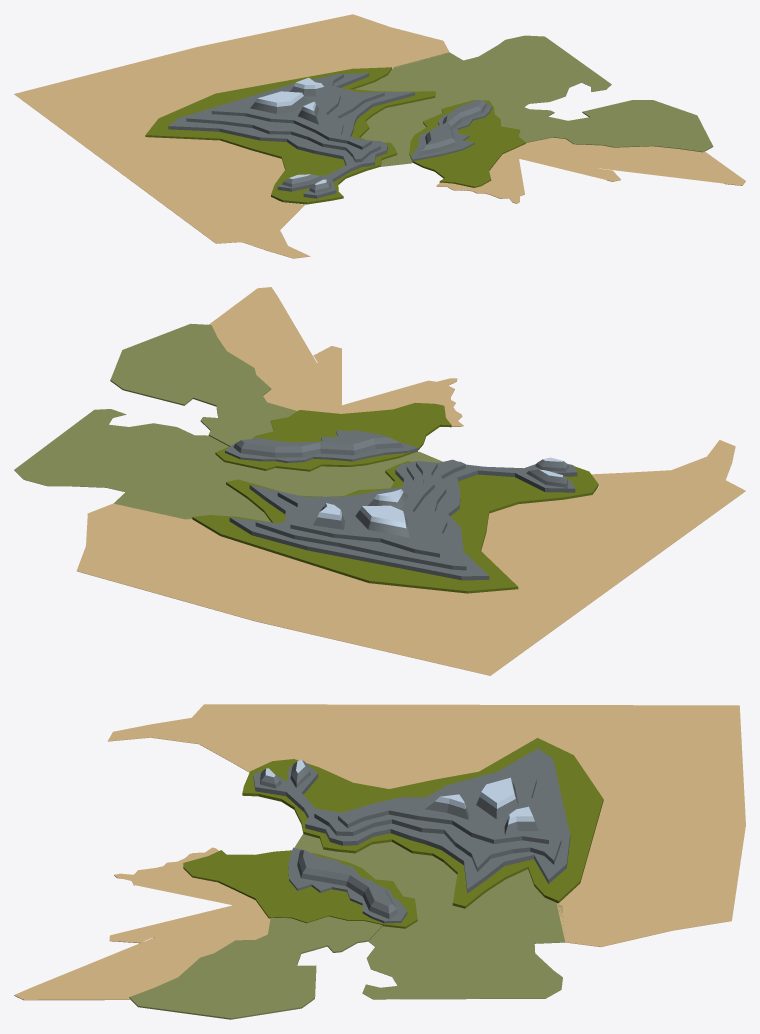
File: GlobalMap_OtherLands.fbx
The picture shows the model from 3 angles, top to bottom: view 1: azimuth 30°, elevation 25°; view 2: azimuth 150°, elevation 25°; view 3: azimuth 270°, elevation 25°; orthographic projection. The views are drawn at different scales.
Parts seen in each view (by area): view 1: Line133, Line125, Line130, Line129, Line118, Line119, Line128, Line120, Line121, Line124, Line127, Line126 (+1 smaller); view 2: Line133, Line125, Line130, Line118, Line129, Line119, Line128, Line120, Line121, Line127, Line124, Line126 (+1 smaller); view 3: Line133, Line125, Line130, Line129, Line118, Line128, Line119, Line120, Line121, Line124, Line127, Line126 (+1 smaller).
Boxes of the visible parts, x1,y1,x2,y2 form: Line133: [14, 14, 449, 258]; Line125: [354, 35, 611, 166]; Line130: [436, 137, 745, 203]; Line129: [494, 100, 713, 152]; Line118: [145, 67, 435, 204]; Line119: [168, 73, 414, 198]; Line128: [409, 100, 525, 187]; Line120: [186, 74, 384, 162]; Line121: [211, 78, 371, 149]; Line124: [250, 77, 329, 124]; Line127: [418, 100, 487, 155]; Line126: [411, 102, 492, 162]; Line133: [76, 440, 745, 675]; Line125: [14, 409, 442, 522]; Line130: [209, 287, 463, 426]; Line118: [192, 461, 598, 593]; Line129: [110, 323, 297, 446]; Line119: [229, 459, 577, 580]; Line128: [215, 402, 451, 471]; Line120: [255, 461, 466, 570]; Line121: [290, 462, 439, 557]; Line127: [233, 430, 403, 457]; Line124: [313, 489, 409, 537]; Line126: [225, 430, 417, 463]; Line133: [107, 704, 745, 946]; Line125: [294, 834, 565, 999]; Line130: [14, 847, 270, 1000]; Line129: [129, 916, 382, 1019]; Line118: [242, 738, 603, 908]; Line128: [183, 850, 417, 928]; Line119: [253, 748, 570, 893]; Line120: [314, 756, 561, 871]; Line121: [338, 767, 548, 843]; Line124: [425, 777, 538, 835]; Line127: [297, 850, 398, 919]; Line126: [288, 847, 407, 923].
Bounding box in the file's own units: 61038 × 2541 × 59896.
